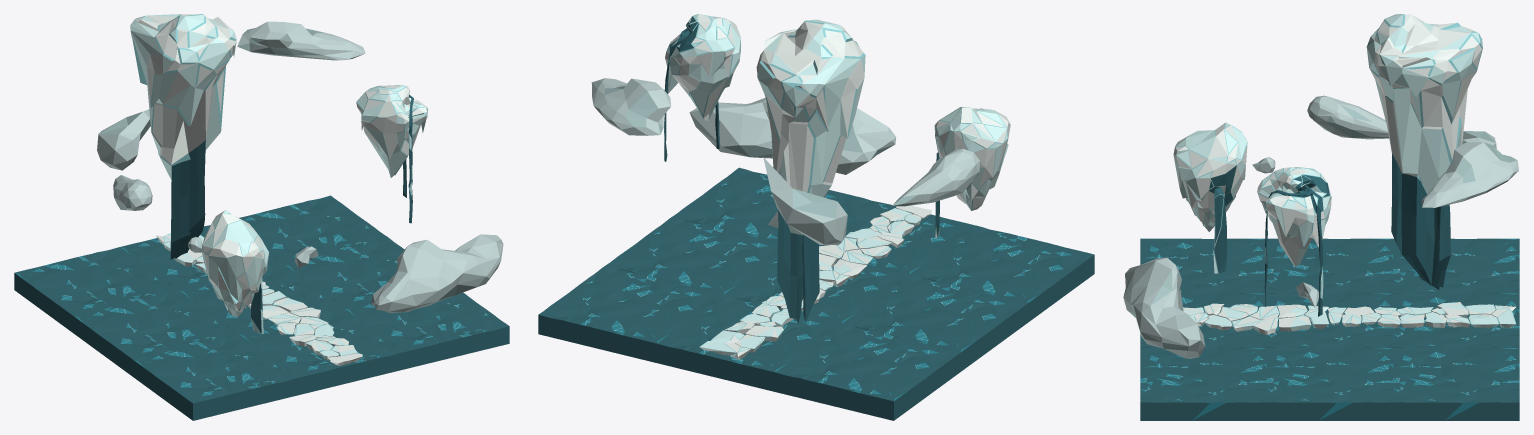
3 views of the same model, side by side, from view 1: azimuth 30°, elevation 25°; view 2: azimuth 150°, elevation 25°; view 3: azimuth 270°, elevation 25° (orthographic). The views are drawn at different scales.
Parts seen in each view (by area): view 1: AguaSuelo01, IslaFlotanteHielo03, Nube02, IslaFlotanteHielo02, IslaFlotanteHielo01, Nube01, Nube03, Nube06; view 2: AguaSuelo01, IslaFlotanteHielo03, IslaFlotanteHielo01, Nube02, IslaFlotanteHielo02, Nube01, Nube03, Nube06, Cubo.019; view 3: AguaSuelo01, IslaFlotanteHielo03, IslaFlotanteHielo02, IslaFlotanteHielo01, Nube02, Nube01, Nube06, Cubo.035, Cubo.019, Nube03, Cubo.034, Cubo.020.
Boxes of the visible parts, bbox=[...] form: AguaSuelo01: bbox=[14, 195, 509, 420]; IslaFlotanteHielo03: bbox=[130, 14, 236, 259]; Nube02: bbox=[371, 234, 503, 313]; IslaFlotanteHielo02: bbox=[201, 210, 268, 334]; IslaFlotanteHielo01: bbox=[356, 85, 427, 223]; Nube01: bbox=[237, 21, 365, 60]; Nube03: bbox=[97, 109, 150, 170]; Nube06: bbox=[113, 175, 152, 210]; AguaSuelo01: bbox=[538, 167, 1094, 420]; IslaFlotanteHielo03: bbox=[756, 19, 865, 323]; IslaFlotanteHielo01: bbox=[664, 14, 740, 161]; Nube02: bbox=[689, 97, 896, 174]; IslaFlotanteHielo02: bbox=[934, 107, 1010, 238]; Nube01: bbox=[591, 78, 670, 135]; Nube03: bbox=[763, 157, 847, 245]; Nube06: bbox=[892, 148, 980, 206]; Cubo.019: bbox=[699, 341, 751, 359]; AguaSuelo01: bbox=[1140, 238, 1519, 420]; IslaFlotanteHielo03: bbox=[1366, 14, 1482, 289]; IslaFlotanteHielo02: bbox=[1173, 122, 1247, 273]; IslaFlotanteHielo01: bbox=[1257, 167, 1331, 316]; Nube02: bbox=[1123, 257, 1205, 358]; Nube01: bbox=[1421, 142, 1518, 207]; Nube06: bbox=[1307, 95, 1389, 139]; Cubo.035: bbox=[1279, 315, 1311, 331]; Cubo.019: bbox=[1491, 305, 1516, 327]; Nube03: bbox=[1462, 131, 1496, 148]; Cubo.034: bbox=[1304, 305, 1329, 328]; Cubo.020: bbox=[1468, 314, 1499, 327].
Size of the model in its own units: 1828 by 1496 by 1772.
